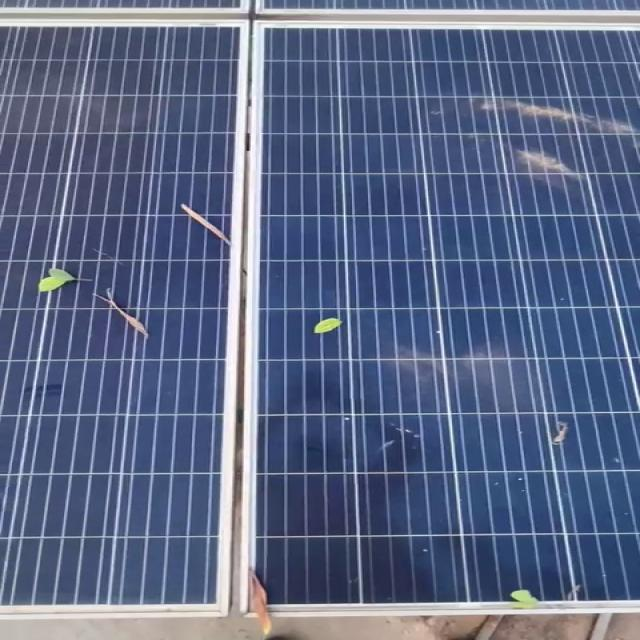bird_dropping: (542, 417, 586, 458)
dust_partical: (454, 85, 638, 184)
old_leaf: (30, 266, 160, 344), (165, 197, 257, 252), (237, 565, 305, 639), (285, 310, 365, 340), (508, 587, 560, 612)
